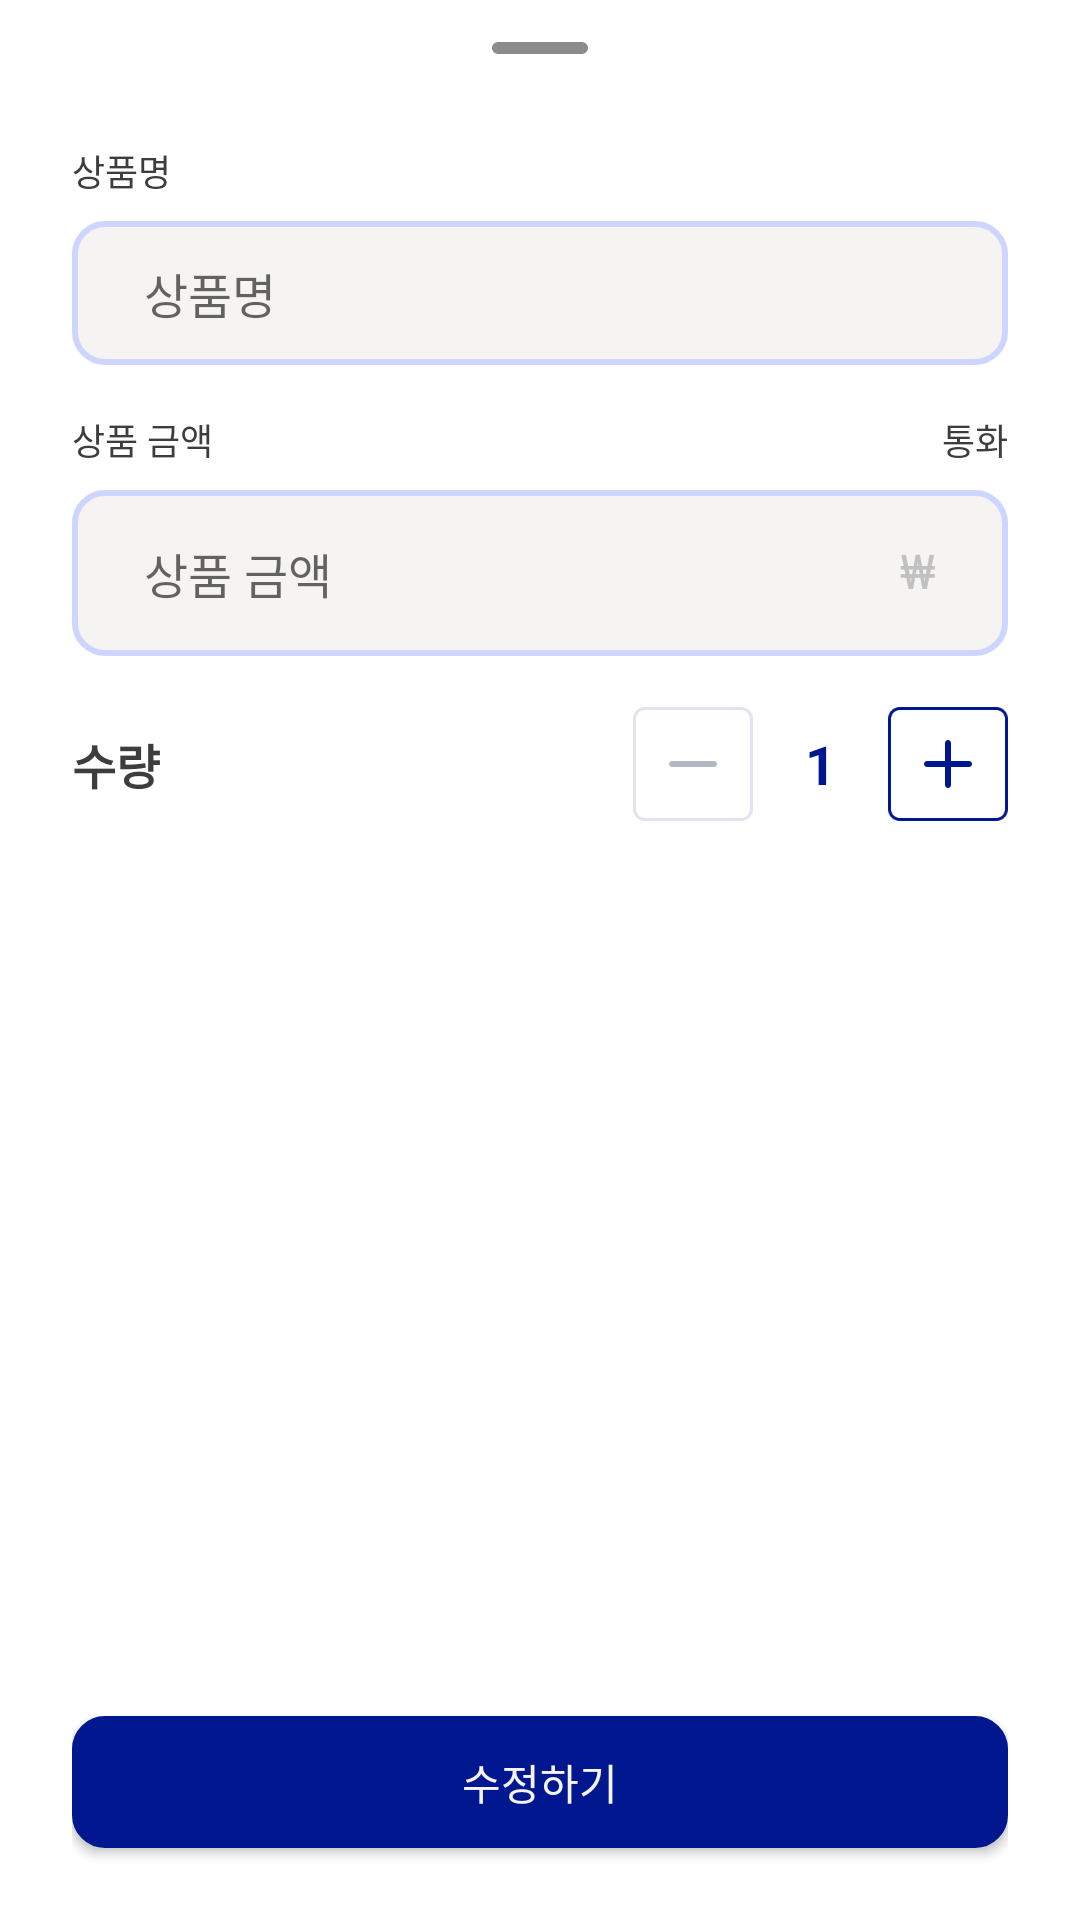

Screen size 1080x1920. Icon name, then its center in pixels as [x,y]:
plus: [948,764]
